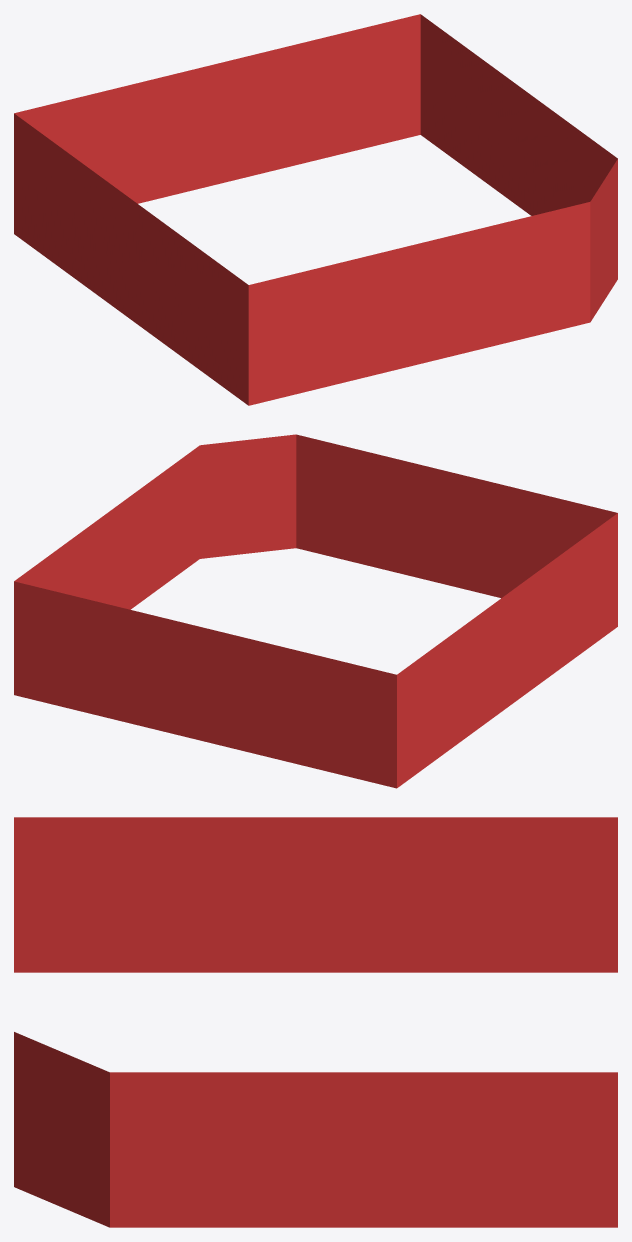
File: Town_Bld-Med_FloorH-Ads.FBX
The picture shows the model from 3 angles, top to bottom: view 1: azimuth 30°, elevation 25°; view 2: azimuth 150°, elevation 25°; view 3: azimuth 270°, elevation 25°; orthographic projection. The views are drawn at different scales.
Visible parts, largest first — view 1: Town_Bld-Med_FloorH-Ads; view 2: Town_Bld-Med_FloorH-Ads; view 3: Town_Bld-Med_FloorH-Ads.
Boxes of the visible parts, box(x1,y1,x2,y2) form: Town_Bld-Med_FloorH-Ads: box(14, 14, 617, 405); Town_Bld-Med_FloorH-Ads: box(14, 434, 617, 788); Town_Bld-Med_FloorH-Ads: box(14, 817, 617, 1227).
Size of the model in its own units: 600 by 170 by 600.
